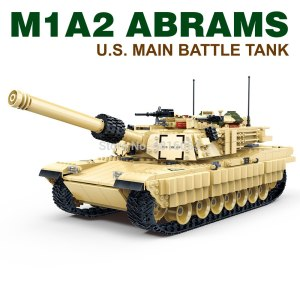Battle Tank: (37, 96, 296, 237)
